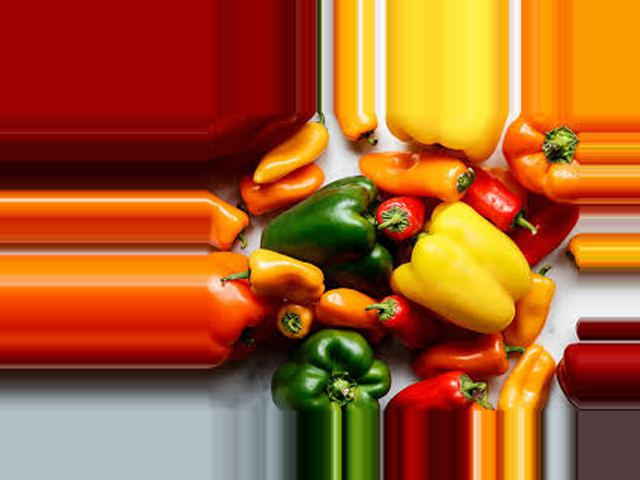bell_pepper: (395, 360, 491, 412)
